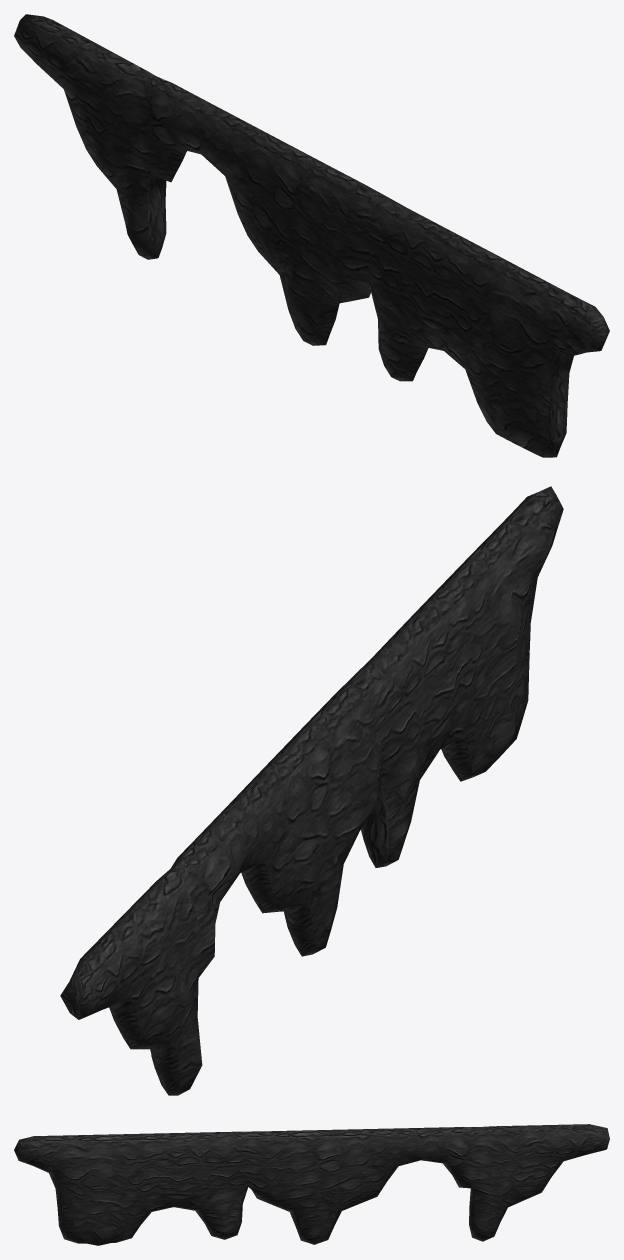
File: BrickWallStraight9Shape.dae
The picture shows the model from 3 angles, top to bottom: view 1: azimuth 30°, elevation 25°; view 2: azimuth 150°, elevation 25°; view 3: azimuth 270°, elevation 25°; orthographic projection. The views are drawn at different scales.
Visible parts, largest first — view 1: BrickWallStraight9; view 2: BrickWallStraight9; view 3: BrickWallStraight9.
Boxes of the visible parts, box(x1,y1,x2,y2) form: BrickWallStraight9: box(14, 14, 609, 457); BrickWallStraight9: box(60, 486, 563, 1095); BrickWallStraight9: box(14, 1124, 609, 1245).
Size of the model in its own units: 7.65 by 12.63 by 53.71.
